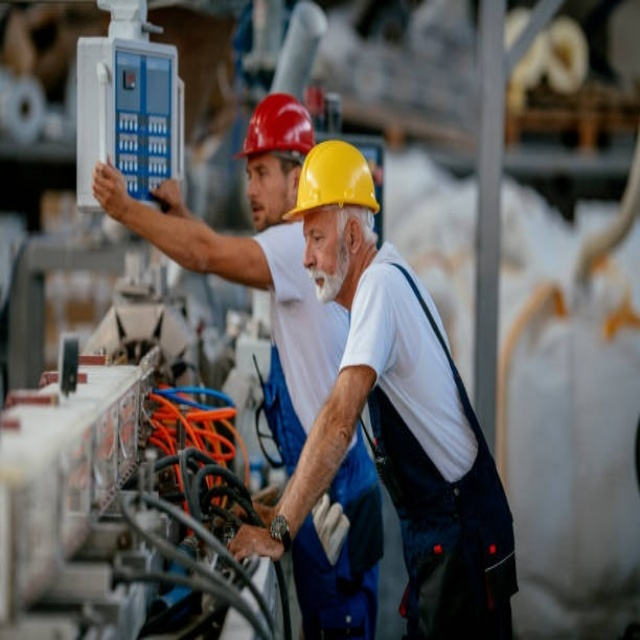Sin_gafas: (300, 215, 337, 248), (245, 154, 273, 185)
Sin_guantes: (90, 157, 133, 220), (226, 522, 281, 565)
Sin_mascara: (307, 265, 332, 301), (250, 195, 267, 224)
